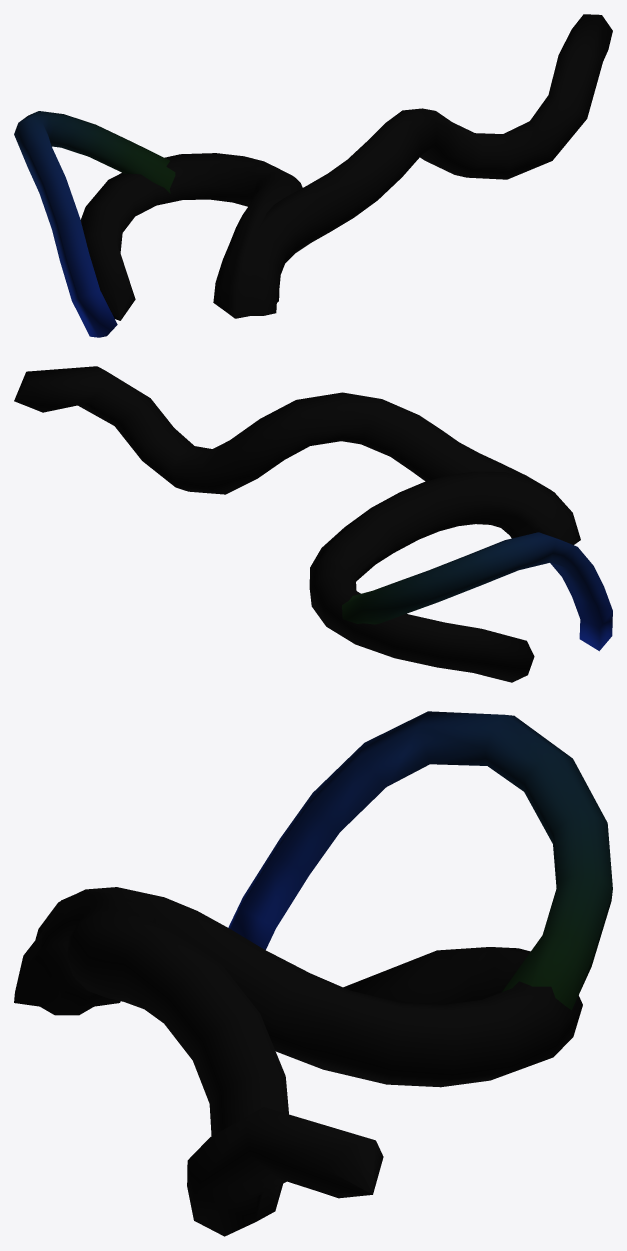
The model's file is DryBranchesHoriz1.fbx.
3 views of the same model, one above another, from view 1: azimuth 30°, elevation 25°; view 2: azimuth 150°, elevation 25°; view 3: azimuth 270°, elevation 25° (orthographic). The views are drawn at different scales.
Parts seen in each view (by area): view 1: Tree_0; view 2: Tree_0; view 3: Tree_0.
Part boxes in pixels (bbox=[...]): Tree_0: bbox=[14, 14, 612, 337]; Tree_0: bbox=[14, 366, 612, 682]; Tree_0: bbox=[14, 711, 612, 1236].
Size of the model in its own units: 107 by 33.9 by 57.53.
